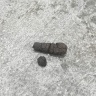Dog: (33, 41, 65, 65)
